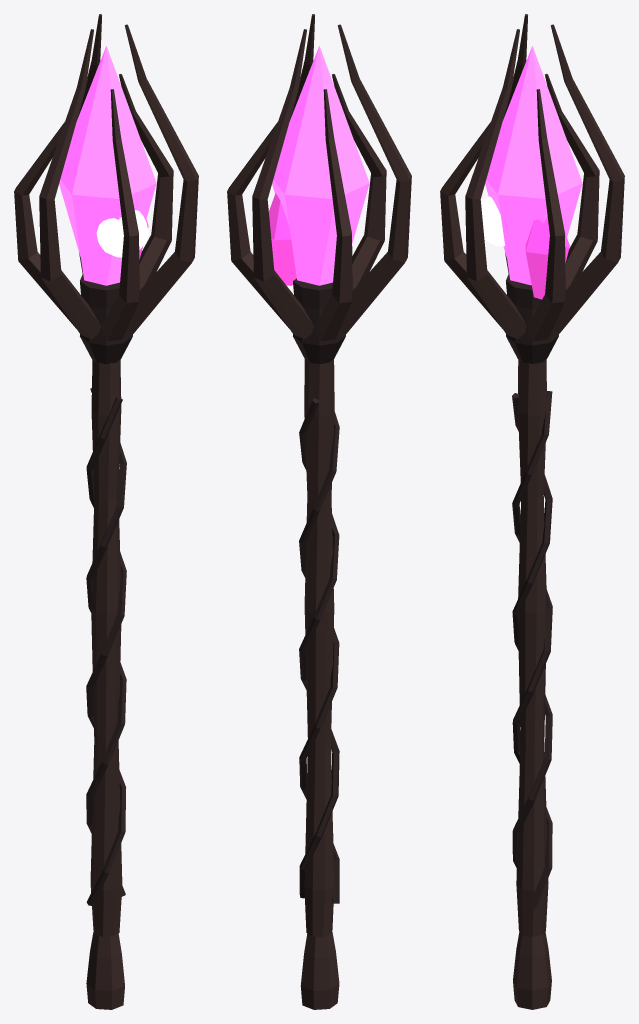
File: staff_rosecage.glb
The picture shows the model from 3 angles, left to right: view 1: azimuth 30°, elevation 25°; view 2: azimuth 150°, elevation 25°; view 3: azimuth 270°, elevation 25°; orthographic projection.
Visible parts, largest first — view 1: Rc_Shaft, Rc_Crystal, Rc_Tendril3, Rc_Tendril5, Rc_Tendril4, Rc_Tendril0, Rc_Vine1, Rc_Tendril2, Rc_Butt, Rc_Vine0, Rc_Neck, Rc_Core (+1 smaller); view 2: Rc_Shaft, Rc_Crystal, Rc_Tendril1, Rc_Tendril3, Rc_Tendril2, Rc_Tendril4, Rc_Vine0, Rc_Vine1, Rc_Tendril0, Rc_Butt, Rc_Neck, Rc_Crystal2 (+1 smaller); view 3: Rc_Shaft, Rc_Crystal, Rc_Tendril5, Rc_Tendril1, Rc_Tendril0, Rc_Tendril2, Rc_Vine0, Rc_Vine1, Rc_Tendril4, Rc_Butt, Rc_Neck, Rc_Crystal2 (+2 smaller).
Boxes of the visible parts, x1,y1,x2,y2 form: Rc_Shaft: [90, 359, 122, 936]; Rc_Crystal: [59, 46, 156, 285]; Rc_Tendril3: [39, 29, 100, 339]; Rc_Tendril5: [124, 24, 198, 333]; Rc_Tendril4: [101, 89, 139, 341]; Rc_Tendril0: [119, 74, 173, 290]; Rc_Vine1: [86, 397, 126, 905]; Rc_Tendril2: [14, 79, 87, 327]; Rc_Butt: [86, 931, 124, 1009]; Rc_Vine0: [86, 388, 126, 896]; Rc_Neck: [80, 273, 132, 364]; Rc_Core: [96, 210, 148, 257]; Rc_Shaft: [304, 359, 334, 936]; Rc_Crystal: [272, 46, 369, 285]; Rc_Tendril1: [252, 29, 313, 339]; Rc_Tendril3: [337, 24, 411, 333]; Rc_Tendril2: [314, 89, 352, 341]; Rc_Tendril4: [332, 74, 386, 290]; Rc_Vine0: [299, 398, 339, 898]; Rc_Vine1: [299, 412, 339, 903]; Rc_Tendril0: [227, 79, 300, 327]; Rc_Butt: [300, 931, 339, 1009]; Rc_Neck: [293, 278, 345, 364]; Rc_Crystal2: [269, 193, 296, 285]; Rc_Shaft: [516, 359, 548, 936]; Rc_Crystal: [485, 46, 582, 285]; Rc_Tendril5: [465, 29, 526, 338]; Rc_Tendril1: [550, 24, 624, 333]; Rc_Tendril0: [527, 89, 565, 341]; Rc_Tendril2: [545, 73, 599, 289]; Rc_Vine0: [512, 391, 552, 908]; Rc_Vine1: [512, 393, 552, 868]; Rc_Tendril4: [440, 79, 513, 328]; Rc_Butt: [513, 932, 551, 1009]; Rc_Neck: [506, 273, 558, 363]; Rc_Crystal2: [525, 216, 569, 299].
Size of the model in its own units: 0.4168 by 2.48 by 0.4236.
